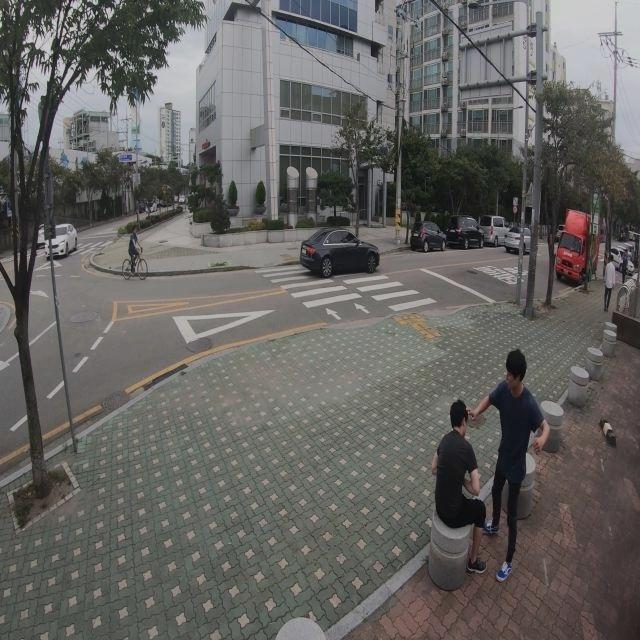fight: (427, 348, 546, 582)
